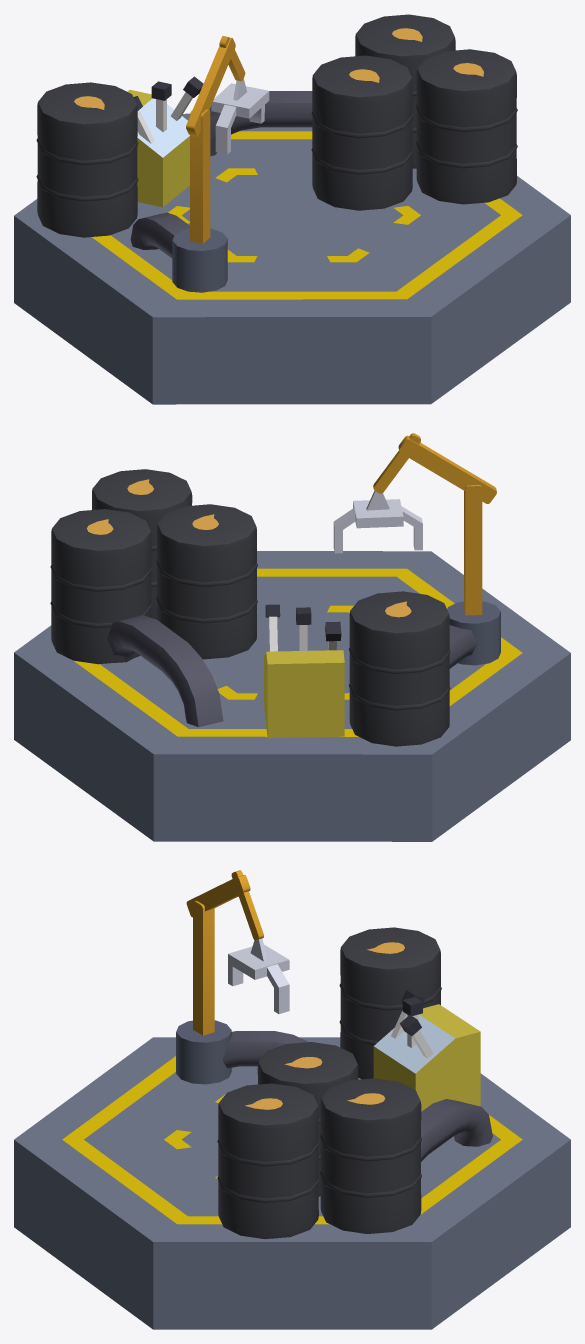
File: OilHex_04.fbx
3 renders of one model, top to bottom at view 1: azimuth 30°, elevation 25°; view 2: azimuth 150°, elevation 25°; view 3: azimuth 270°, elevation 25°, orthographic.
Visible parts, largest first — view 1: OilHex_04; view 2: OilHex_04; view 3: OilHex_04.
Boxes of the visible parts, x1,y1,x2,y2 form: OilHex_04: [14, 14, 570, 404]; OilHex_04: [14, 433, 570, 841]; OilHex_04: [14, 870, 570, 1329].
Size of the model in its own units: 1 by 0.7087 by 1.15.
